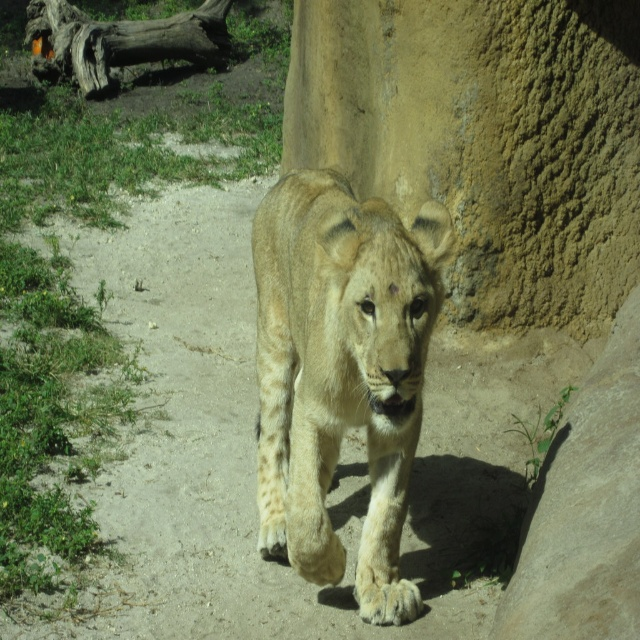Lion: (250, 171, 457, 633)
